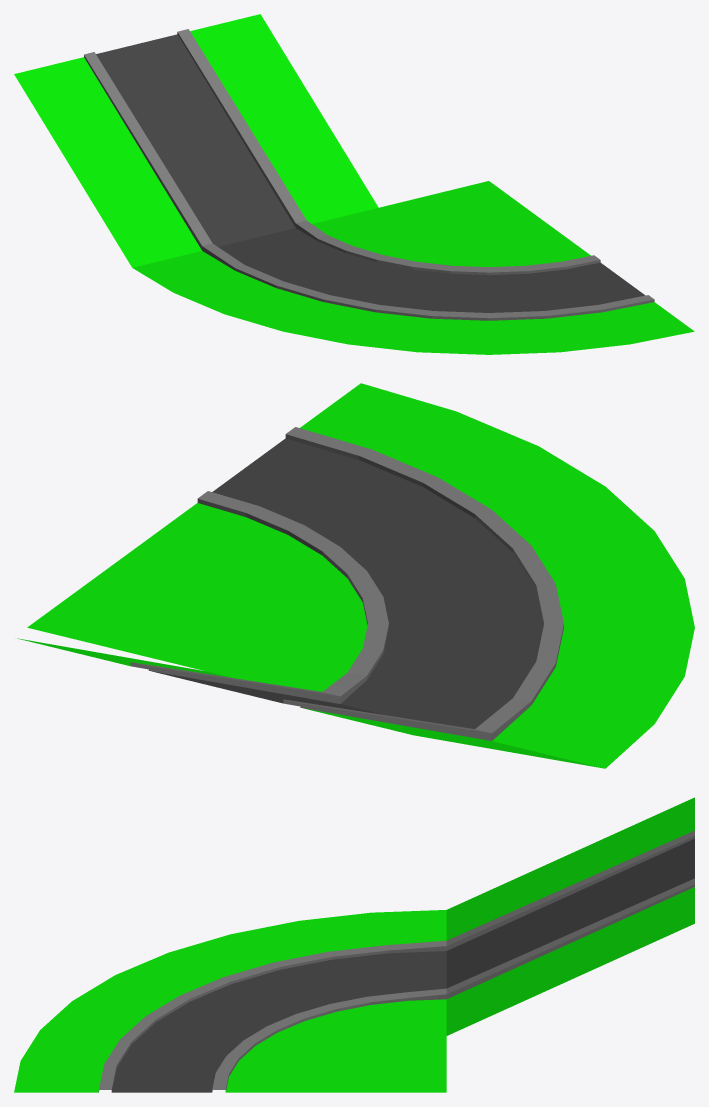
File: LeftCurveTile.fbx
3 views of the same model, one above another, from view 1: azimuth 30°, elevation 25°; view 2: azimuth 150°, elevation 25°; view 3: azimuth 270°, elevation 25° (orthographic). The views are drawn at different scales.
Parts seen in each view (by area): view 1: CurveTileL; view 2: CurveTileL; view 3: CurveTileL.
Part boxes in pixels (bbox=[...]): CurveTileL: bbox=[14, 14, 694, 354]; CurveTileL: bbox=[17, 383, 694, 768]; CurveTileL: bbox=[14, 797, 694, 1092].
Size of the model in its own units: 8709 by 2561 by 13709.
